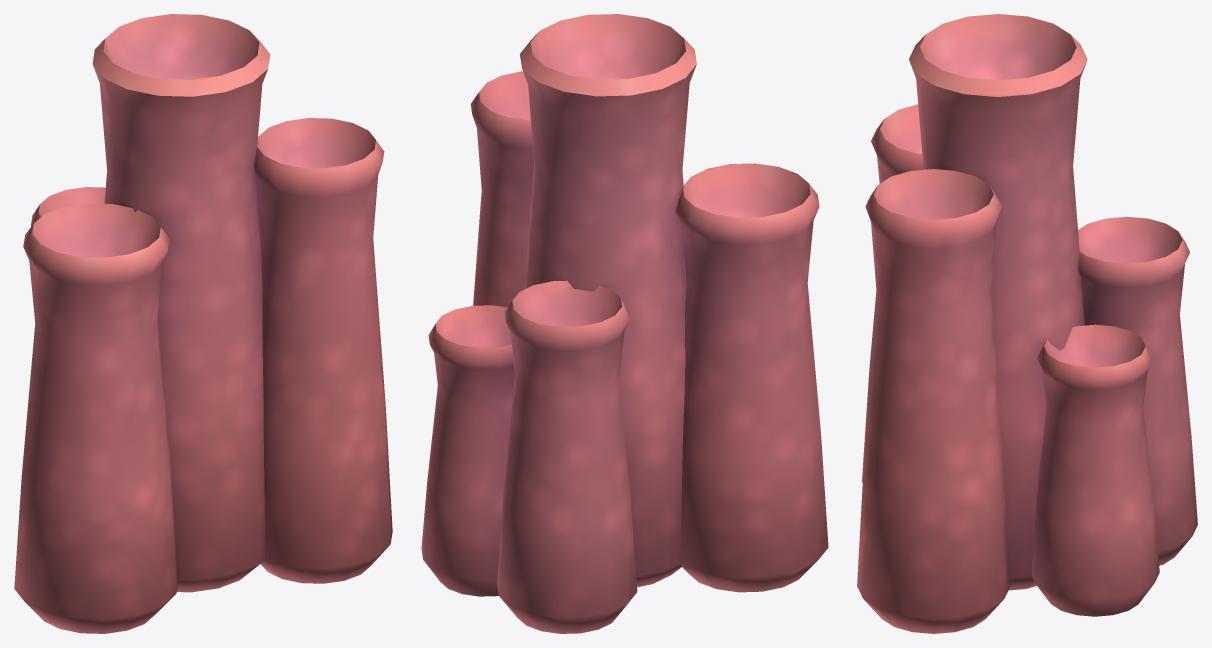
The model's file is WM_CoralFan_A.fbx.
3 renders of one model, left to right at view 1: azimuth 30°, elevation 25°; view 2: azimuth 150°, elevation 25°; view 3: azimuth 270°, elevation 25°, orthographic.
Visible parts, largest first — view 1: WM_CoralFan_A_LOD0; view 2: WM_CoralFan_A_LOD0; view 3: WM_CoralFan_A_LOD0.
Boxes of the visible parts, x1,y1,x2,y2 form: WM_CoralFan_A_LOD0: (14, 14, 392, 633); WM_CoralFan_A_LOD0: (421, 14, 828, 633); WM_CoralFan_A_LOD0: (857, 14, 1197, 633).
Size of what is drawn, in the model's own units: 0.757 by 1.05 by 0.635.
